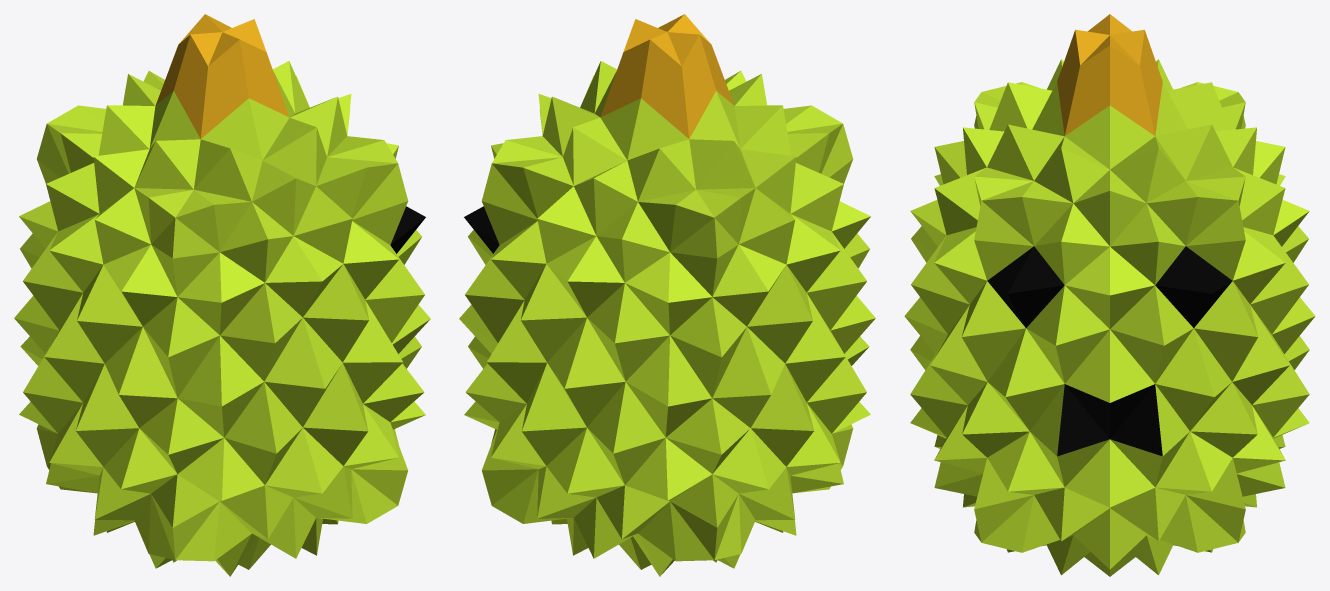
File: DurianEnemy.fbx
3 renders of one model, left to right at view 1: azimuth 30°, elevation 25°; view 2: azimuth 150°, elevation 25°; view 3: azimuth 270°, elevation 25°, orthographic.
Parts seen in each view (by area): view 1: DurianEnemy; view 2: DurianEnemy; view 3: DurianEnemy.
Boxes of the visible parts, x1,y1,x2,y2 form: DurianEnemy: (14,14,430,576); DurianEnemy: (459,14,875,576); DurianEnemy: (904,14,1315,576).
Bounding box in the file's own units: 3.2 × 3.2 × 4.5.
